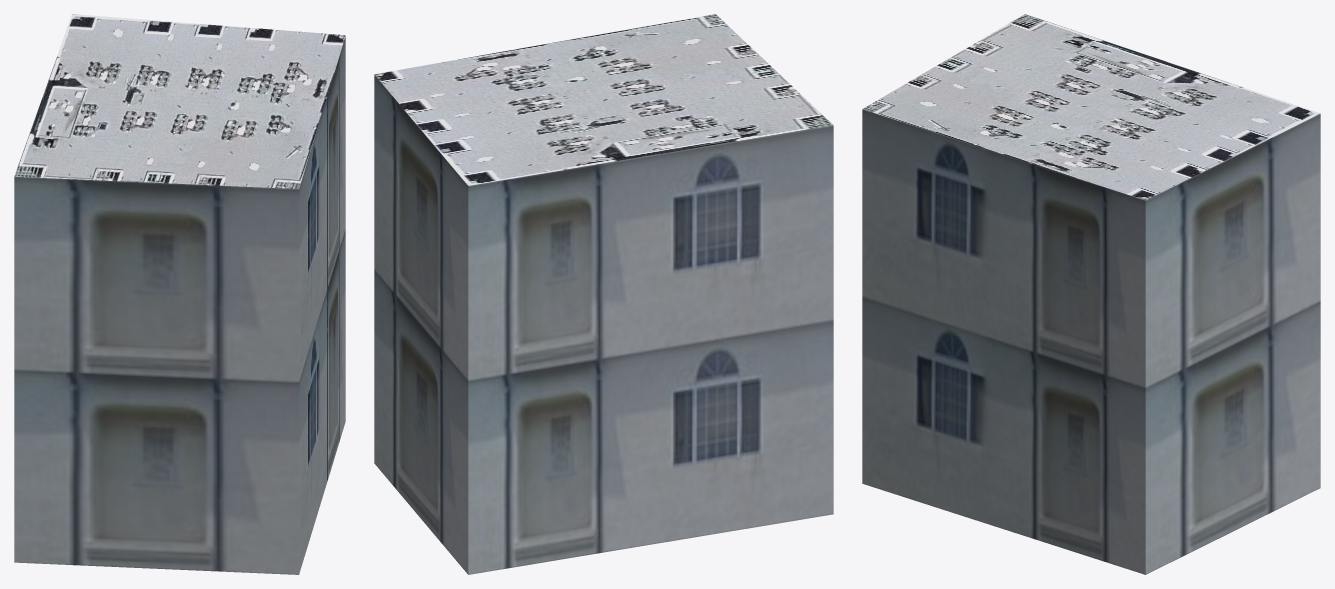
Rendered from ResTex__171.fbx.
3 views of the same model, side by side, from view 1: azimuth 30°, elevation 25°; view 2: azimuth 150°, elevation 25°; view 3: azimuth 270°, elevation 25° (orthographic). The views are drawn at different scales.
Parts seen in each view (by area): view 1: CityEngineMaterial_17_m, CityEngineMaterial_2_m; view 2: CityEngineMaterial_17_m, CityEngineMaterial_2_m; view 3: CityEngineMaterial_17_m, CityEngineMaterial_2_m.
Part boxes in pixels (box(x1,y1,x2,y2)): CityEngineMaterial_17_m: box(14, 36, 345, 574); CityEngineMaterial_2_m: box(14, 14, 345, 188); CityEngineMaterial_17_m: box(374, 75, 833, 574); CityEngineMaterial_2_m: box(374, 14, 833, 185); CityEngineMaterial_17_m: box(862, 109, 1320, 574); CityEngineMaterial_2_m: box(862, 14, 1320, 200).
Size of the model in its own units: 6.41 by 6 by 6.66.
2 materials, 2 textured.
